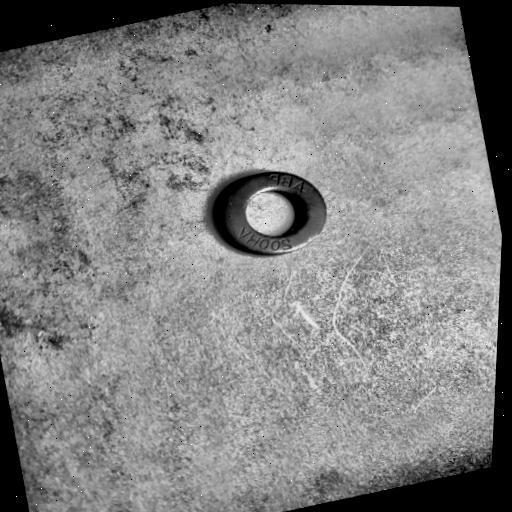Washer: (211, 171, 328, 256)
